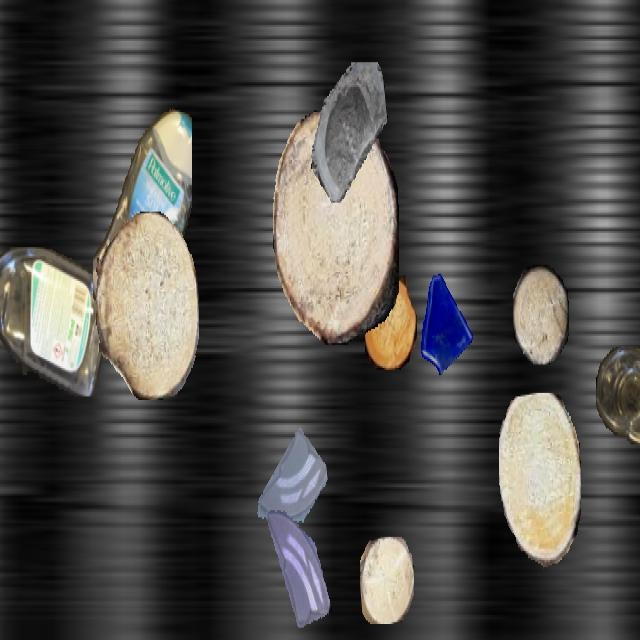glass: (309, 62, 387, 201), (260, 507, 334, 638), (255, 423, 327, 551), (415, 269, 475, 375)
plastic: (93, 102, 191, 340), (0, 247, 110, 397), (596, 347, 640, 442)
wood: (273, 109, 399, 343), (96, 212, 198, 400), (499, 393, 581, 567), (513, 265, 569, 364), (364, 276, 416, 368), (360, 537, 414, 622)
